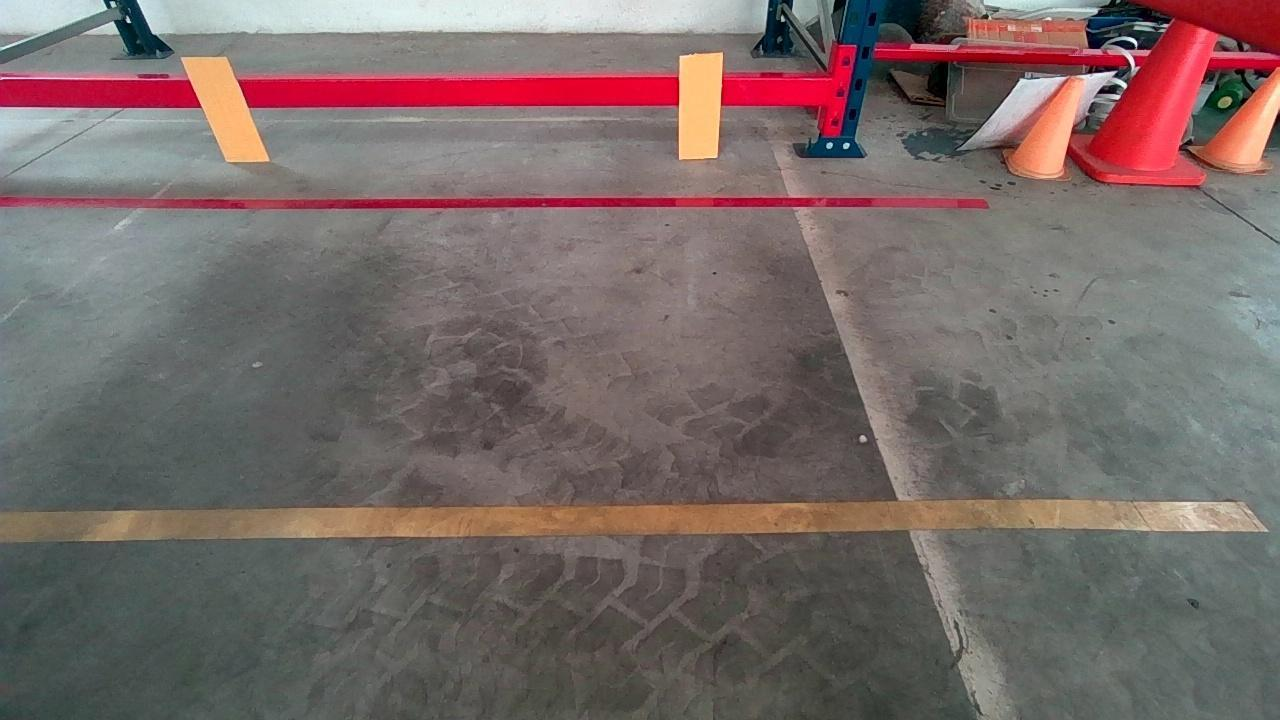h_rack: (2, 71, 829, 111)
orange_strip: (182, 57, 270, 161), (678, 54, 722, 157)
red_line: (4, 191, 985, 207)
